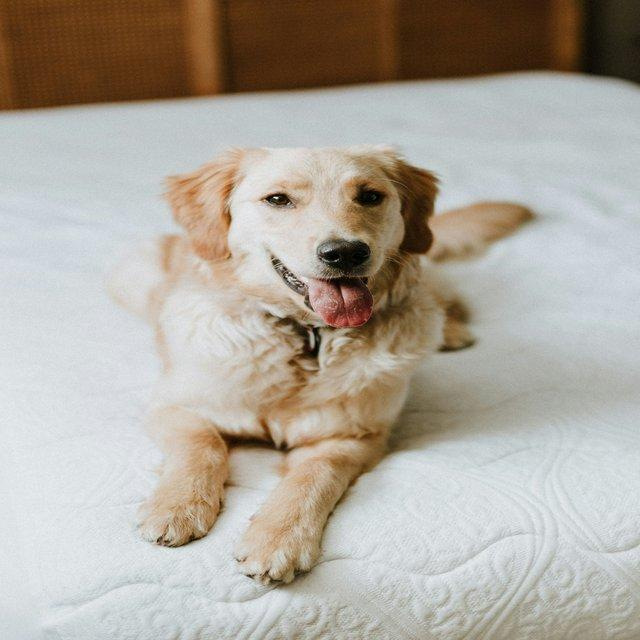retriever: (107, 142, 536, 587)
